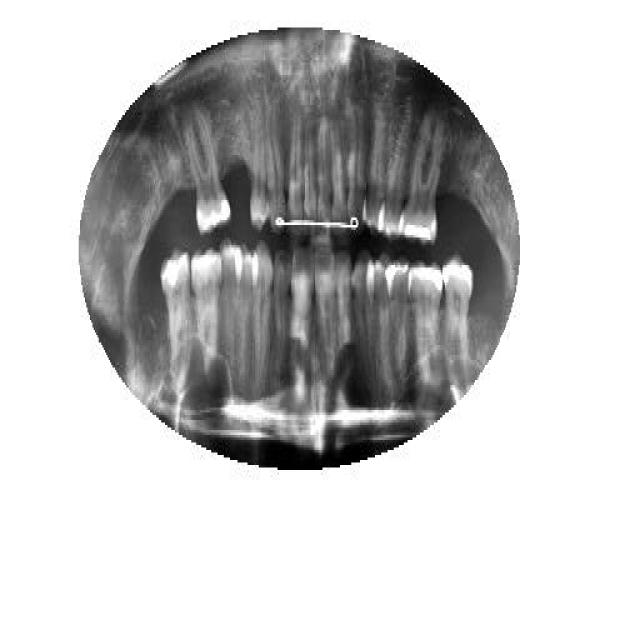Fillings: (186, 110, 232, 238), (160, 248, 191, 368)
